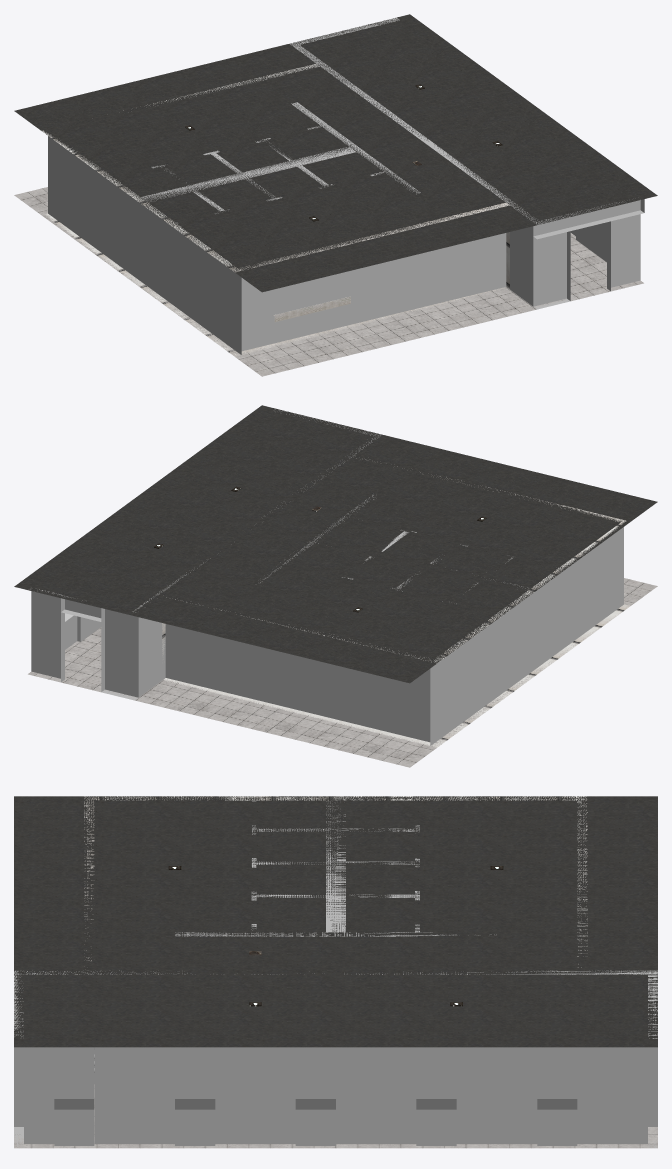
Rendered from room2toilets_opt.fbx.
The picture shows the model from 3 angles, top to bottom: view 1: azimuth 30°, elevation 25°; view 2: azimuth 150°, elevation 25°; view 3: azimuth 270°, elevation 25°; orthographic projection. The views are drawn at different scales.
Visible parts, largest first — view 1: Scene_Root; view 2: Scene_Root; view 3: Scene_Root.
Boxes of the visible parts, x1,y1,x2,y2 form: Scene_Root: (14, 14, 657, 376); Scene_Root: (14, 405, 657, 767); Scene_Root: (14, 796, 657, 1148).
Bounding box in the file's own units: 1369 × 280 × 1485.
